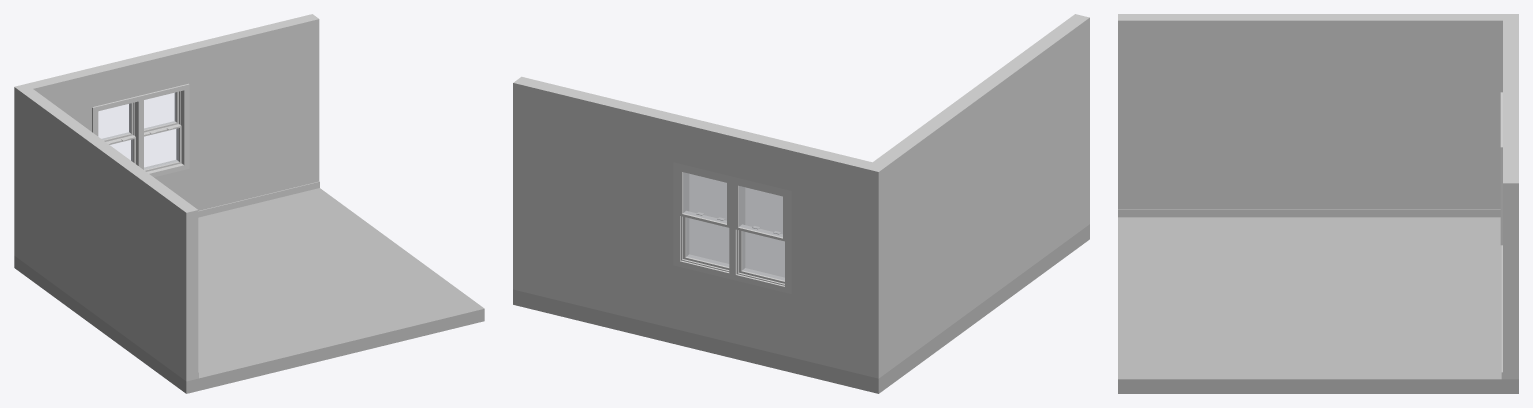
3 renders of one model, left to right at view 1: azimuth 30°, elevation 25°; view 2: azimuth 150°, elevation 25°; view 3: azimuth 270°, elevation 25°, orthographic. The views are drawn at different scales.
Size of the model in its own units: 200 by 116 by 200.
